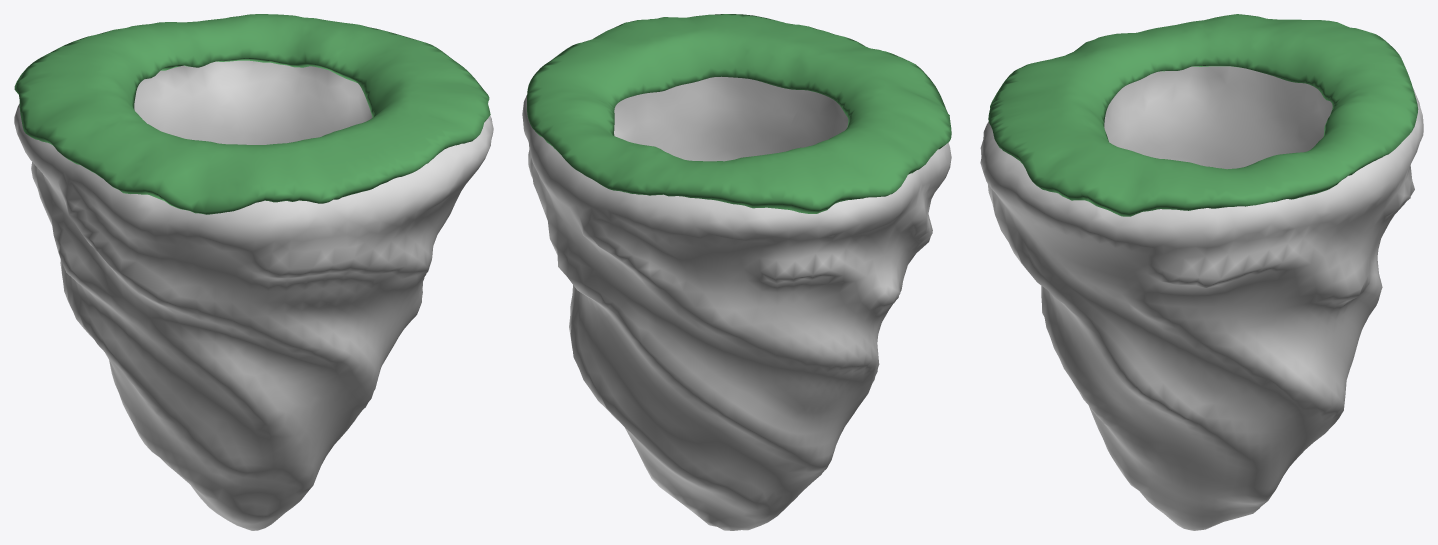
File: IslandBowl1.fbx
The picture shows the model from 3 angles, left to right: view 1: azimuth 30°, elevation 25°; view 2: azimuth 150°, elevation 25°; view 3: azimuth 270°, elevation 25°; orthographic projection.
Parts seen in each view (by area): view 1: IslandBowl1Base, IslandBowl1Top; view 2: IslandBowl1Base, IslandBowl1Top; view 3: IslandBowl1Base, IslandBowl1Top.
Part boxes in pixels (box(x1,y1,x2,y2)): IslandBowl1Base: box(14, 60, 493, 530); IslandBowl1Top: box(14, 14, 490, 214); IslandBowl1Base: box(522, 76, 951, 530); IslandBowl1Top: box(527, 14, 951, 213); IslandBowl1Base: box(980, 66, 1423, 530); IslandBowl1Top: box(988, 14, 1418, 216).
Bounding box in the file's own units: 8307 × 8897 × 8065.
